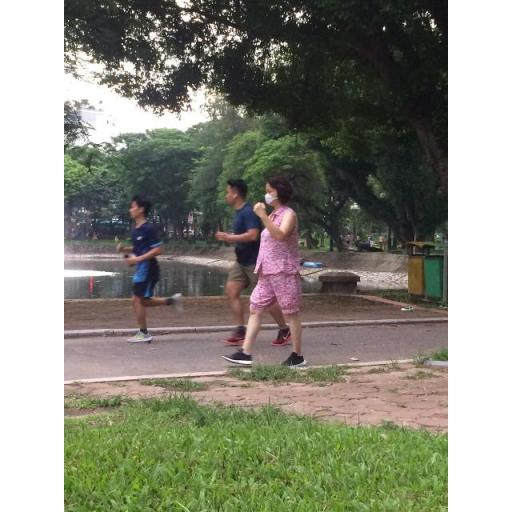Running: (224, 174, 314, 371)
